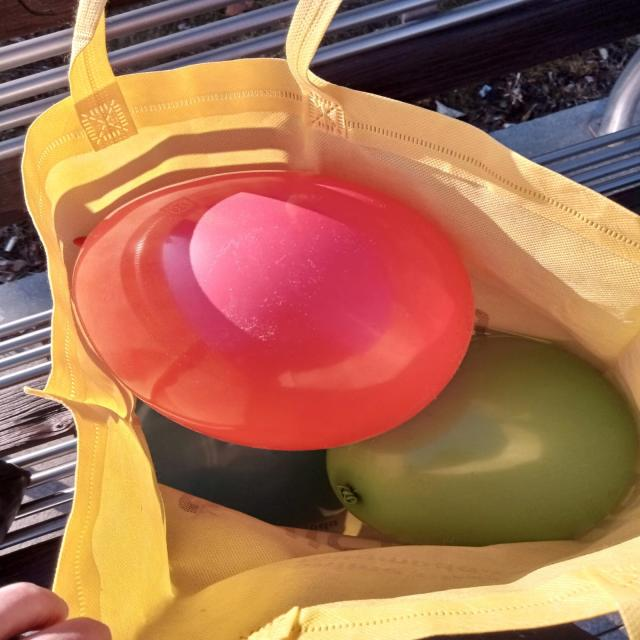balloon: (71, 170, 474, 449), (327, 334, 639, 546), (137, 400, 342, 531)
